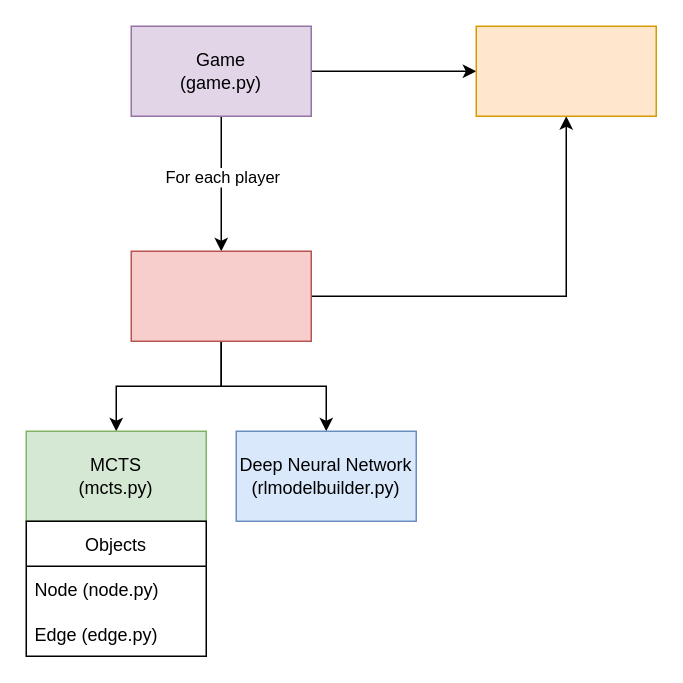
Image size: 683x683. Some labels were removed from this diagram. Each missing label, with the centre of its shape:
Agent (agent.py): point 220,295
Environment (chessEnv.py): point 565,70
